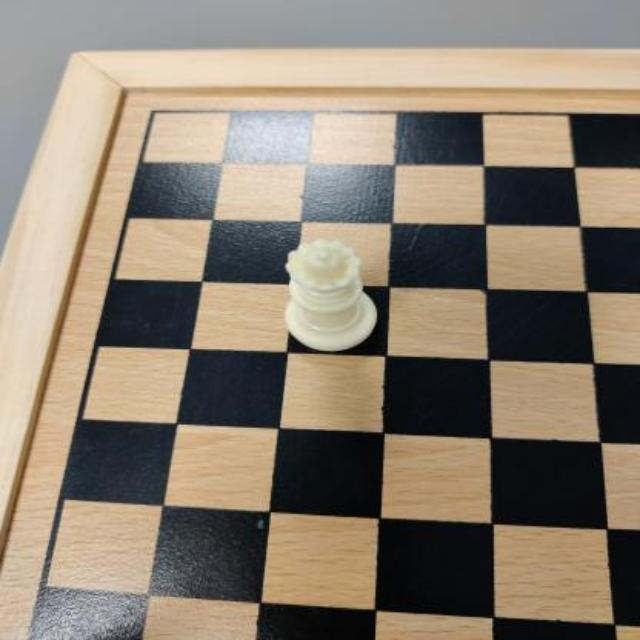white-queen: (275, 232, 387, 358)
